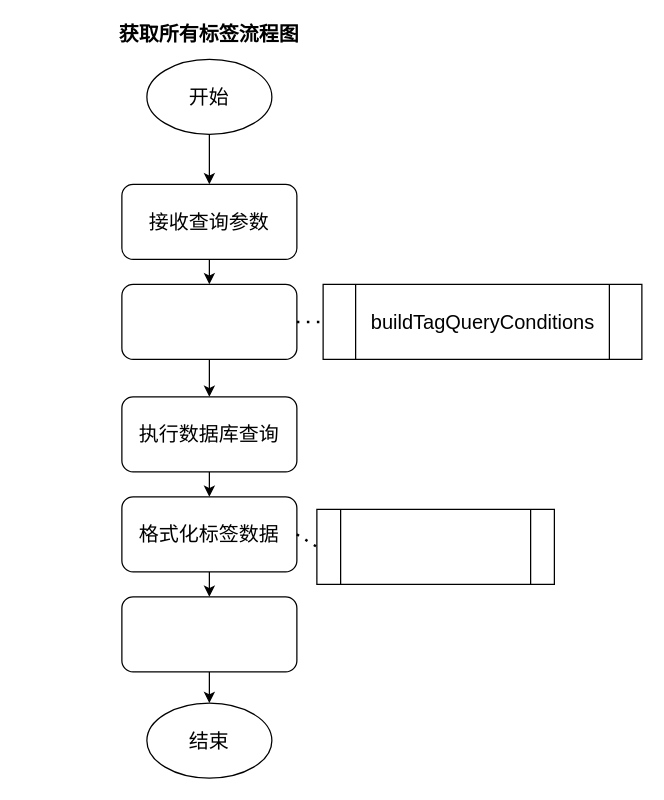
This 664x800 diagram has some shape labels left out. The centre of each missing label's shape, as x and y in pixels:
"formatTagResponse" belongs at point (435, 546).
"构建查询条件" belongs at point (209, 321).
"返回标签列表" belongs at point (209, 634).
